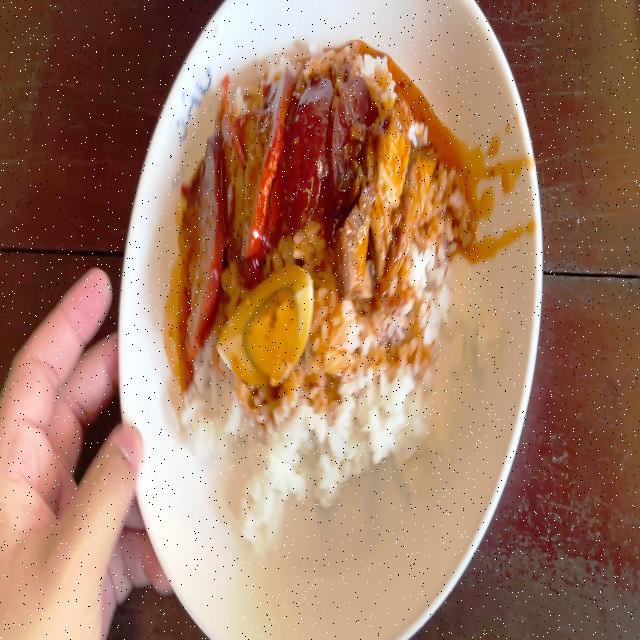boiled_egg: (228, 270, 311, 374)
chainese_sausage: (289, 81, 365, 227)
crispy_pork: (347, 120, 436, 289)
red_pork: (182, 81, 285, 308)
red_pork_and_crispy_pork: (179, 62, 444, 490)
rice: (313, 292, 452, 487)
